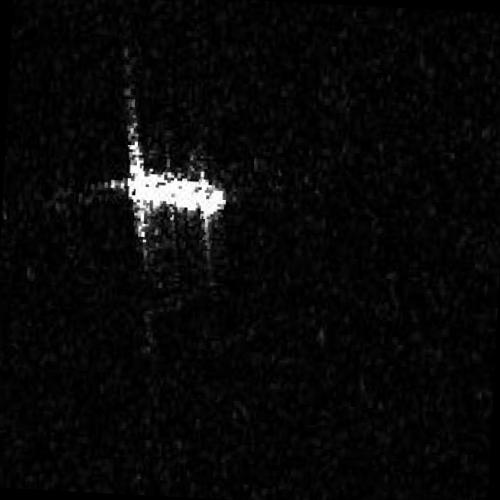ship: (123, 165, 226, 219)
